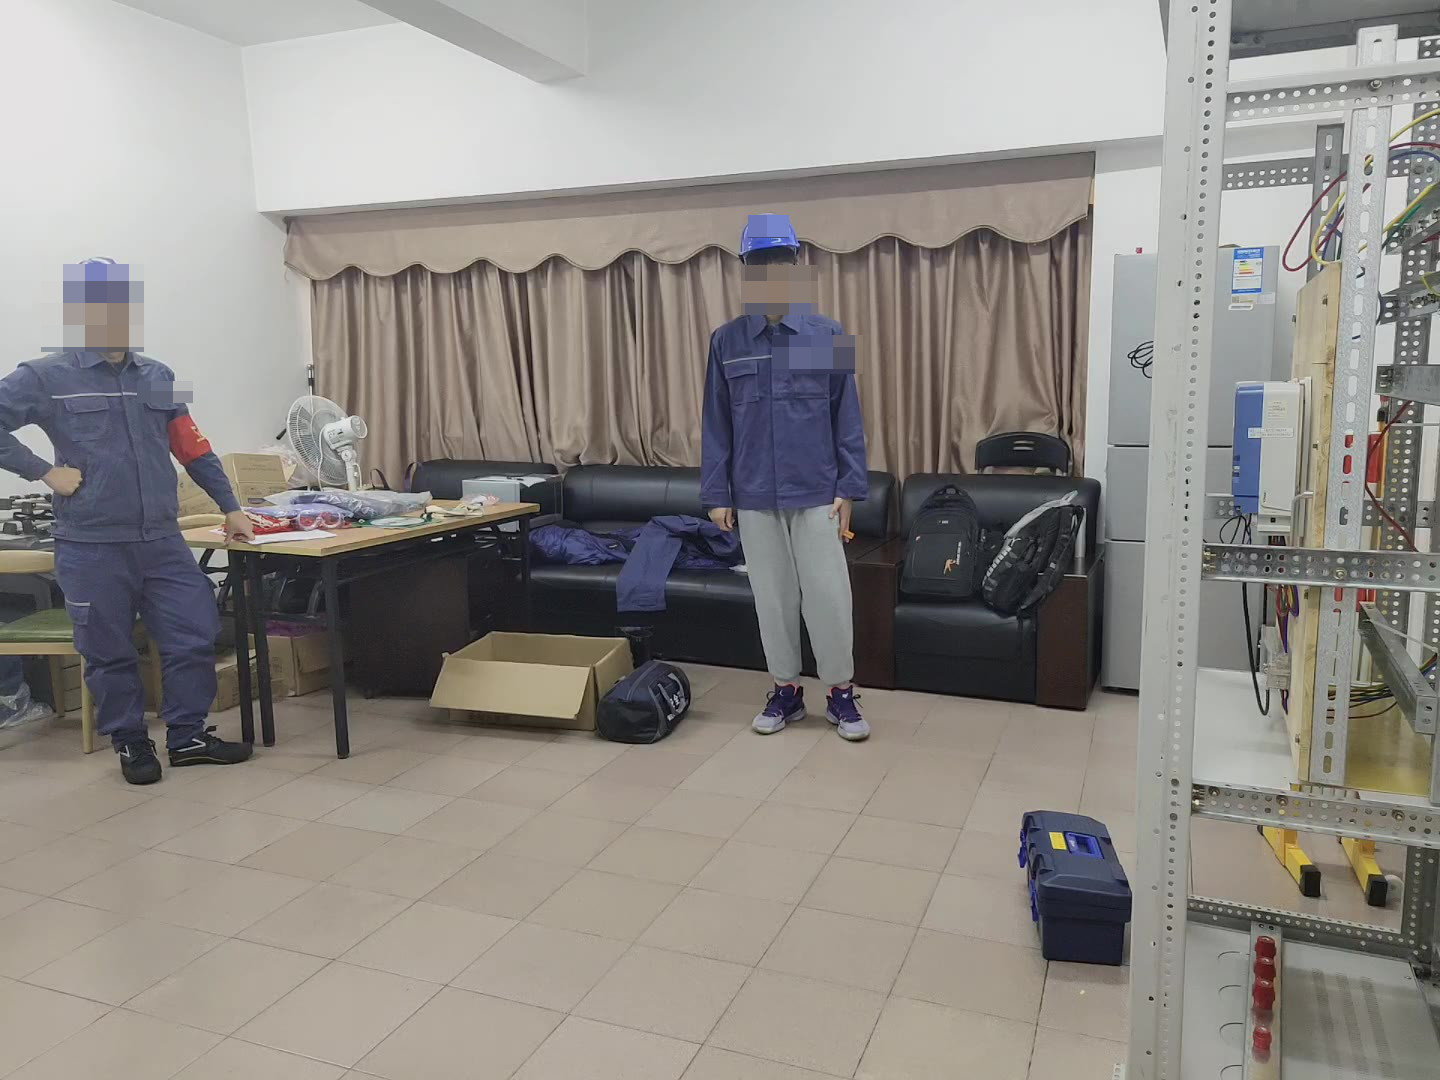badge: (167, 412, 213, 465)
downcloth: (738, 516, 854, 679)
downsuit: (55, 550, 220, 749)
halt: (63, 257, 147, 352), (737, 212, 810, 308)
hand: (41, 463, 83, 498), (221, 508, 256, 546), (828, 500, 856, 540), (706, 506, 737, 533)
person: (1, 255, 245, 782), (689, 210, 878, 739)
upsuit: (3, 343, 233, 535), (704, 307, 867, 506)
